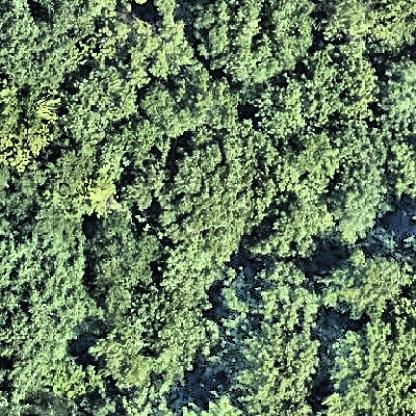tree-top: (1, 238, 99, 401), (217, 262, 324, 408), (179, 1, 329, 81), (73, 211, 167, 312), (315, 322, 416, 416), (164, 147, 245, 264), (1, 1, 99, 87), (137, 64, 245, 138), (320, 126, 381, 251), (316, 250, 416, 323), (240, 174, 322, 256), (97, 1, 172, 81), (152, 295, 209, 393), (302, 53, 379, 123), (1, 89, 65, 169), (90, 325, 161, 397), (68, 68, 130, 149), (322, 2, 416, 51), (1, 180, 71, 244), (254, 75, 315, 147), (371, 53, 416, 140), (166, 240, 218, 312), (291, 128, 343, 192), (118, 153, 165, 214), (380, 142, 416, 209), (43, 363, 89, 403)
